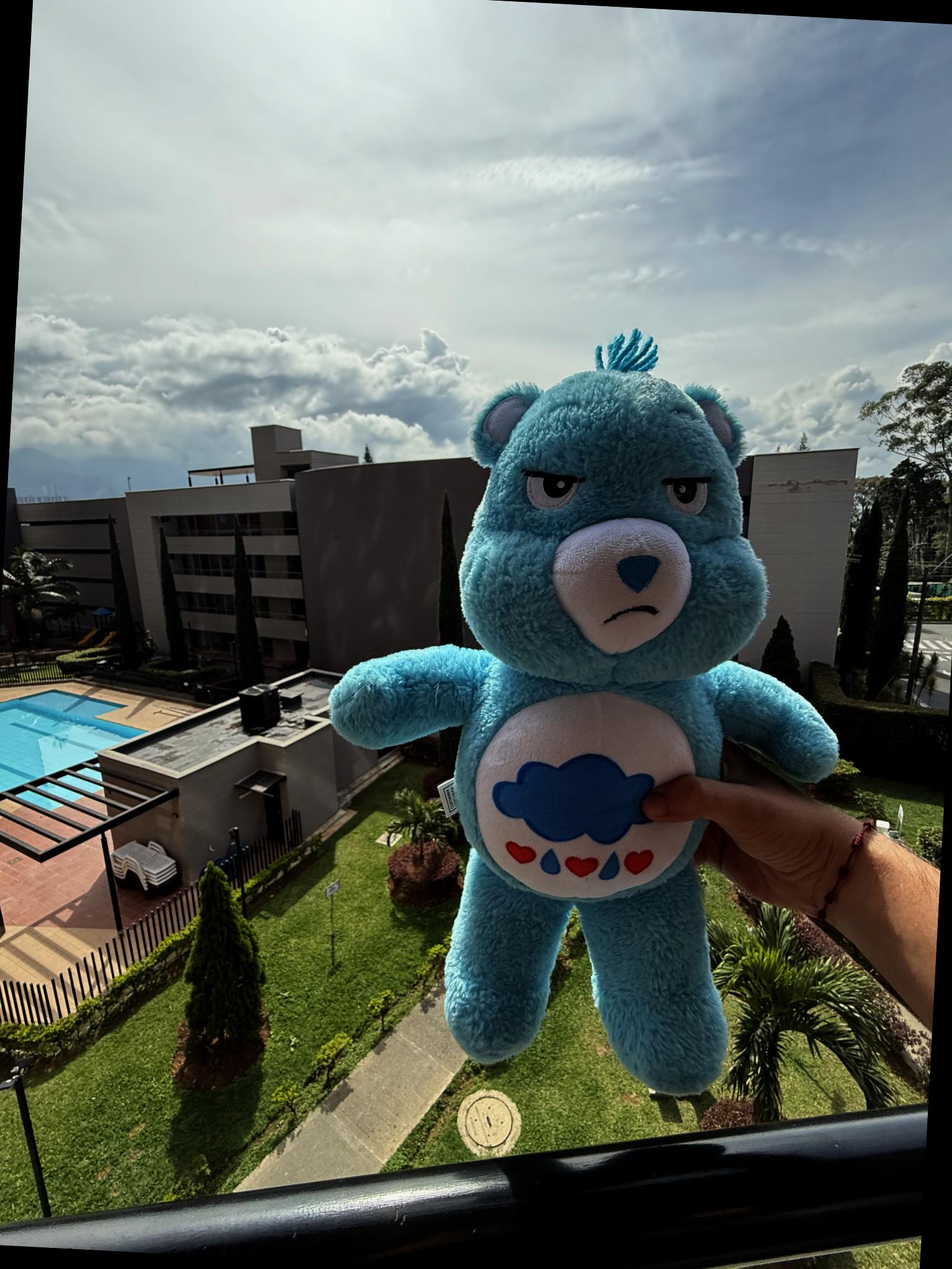peluche_Juan Jose: (309, 311, 863, 1101)
